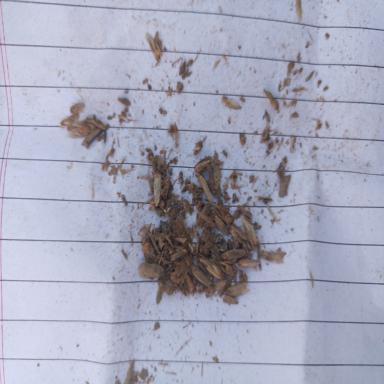pbw: (198, 252, 225, 279), (240, 214, 260, 246), (190, 262, 213, 289), (194, 172, 212, 205), (157, 172, 172, 210), (174, 253, 193, 283), (145, 29, 163, 60), (210, 254, 236, 274), (192, 154, 214, 176), (140, 237, 156, 267), (213, 202, 235, 223), (259, 250, 285, 267), (212, 209, 228, 236), (195, 204, 211, 231), (151, 170, 162, 208), (195, 275, 217, 294), (66, 122, 92, 138), (163, 192, 179, 216), (220, 249, 252, 261), (263, 88, 279, 111), (225, 280, 248, 296), (235, 200, 253, 220), (157, 274, 173, 296), (230, 222, 246, 243), (175, 219, 187, 246), (199, 212, 218, 229), (168, 248, 188, 264), (208, 178, 224, 198), (85, 116, 107, 130), (217, 276, 232, 296), (81, 132, 99, 148), (60, 114, 78, 130), (221, 94, 240, 109), (237, 258, 261, 268), (208, 278, 226, 291), (68, 100, 86, 113), (214, 162, 220, 192), (195, 235, 202, 257), (221, 296, 239, 304), (156, 285, 162, 306)
